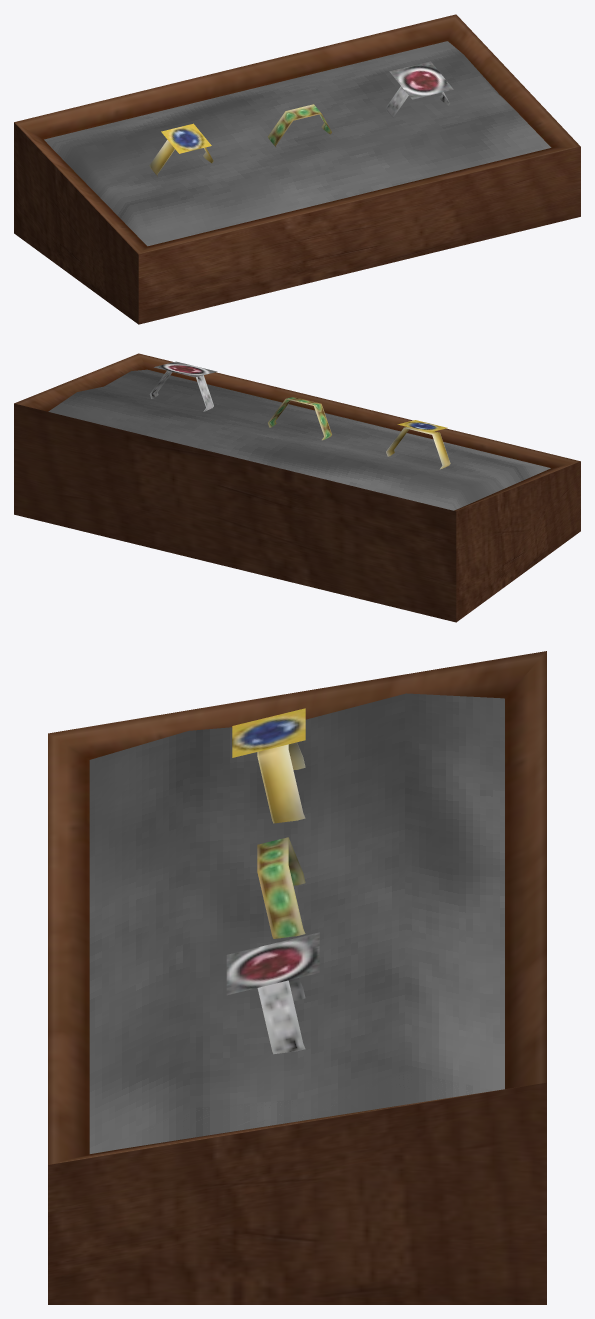
The model's file is shop_jeweler_ringBoxShanty01.fbx.
3 renders of one model, top to bottom at view 1: azimuth 30°, elevation 25°; view 2: azimuth 150°, elevation 25°; view 3: azimuth 270°, elevation 25°, orthographic. The views are drawn at different scales.
Parts seen in each view (by area): view 1: ringBox_wood, ringBox_velvet, ringBox_jewel02, ringBox_jewel01, rinBox_ring03, rinBox_ring01, rinBox_ring02; view 2: ringBox_wood, ringBox_velvet, rinBox_ring03, rinBox_ring01, rinBox_ring02, ringBox_jewel02; view 3: ringBox_velvet, ringBox_wood, ringBox_jewel02, rinBox_ring03, rinBox_ring01, rinBox_ring02, ringBox_jewel01.
Boxes of the visible parts, x1,y1,x2,y2 form: ringBox_wood: [14, 14, 580, 324]; ringBox_velvet: [44, 41, 551, 246]; ringBox_jewel02: [389, 61, 453, 99]; ringBox_jewel01: [161, 123, 211, 153]; rinBox_ring03: [267, 104, 331, 146]; rinBox_ring01: [149, 140, 213, 176]; rinBox_ring02: [386, 86, 449, 118]; ringBox_wood: [14, 353, 580, 622]; ringBox_velvet: [48, 369, 550, 510]; rinBox_ring03: [268, 397, 331, 440]; rinBox_ring01: [386, 427, 450, 469]; rinBox_ring02: [149, 370, 213, 411]; ringBox_jewel02: [154, 361, 217, 377]; ringBox_velvet: [89, 693, 504, 1153]; ringBox_wood: [48, 651, 546, 1304]; ringBox_jewel02: [226, 932, 319, 995]; rinBox_ring03: [257, 837, 305, 938]; rinBox_ring01: [257, 742, 305, 823]; rinBox_ring02: [257, 978, 305, 1054]; ringBox_jewel01: [232, 708, 305, 757].
Size of the model in its own units: 62.03 by 16.86 by 30.29.
3 materials, 3 textured.
